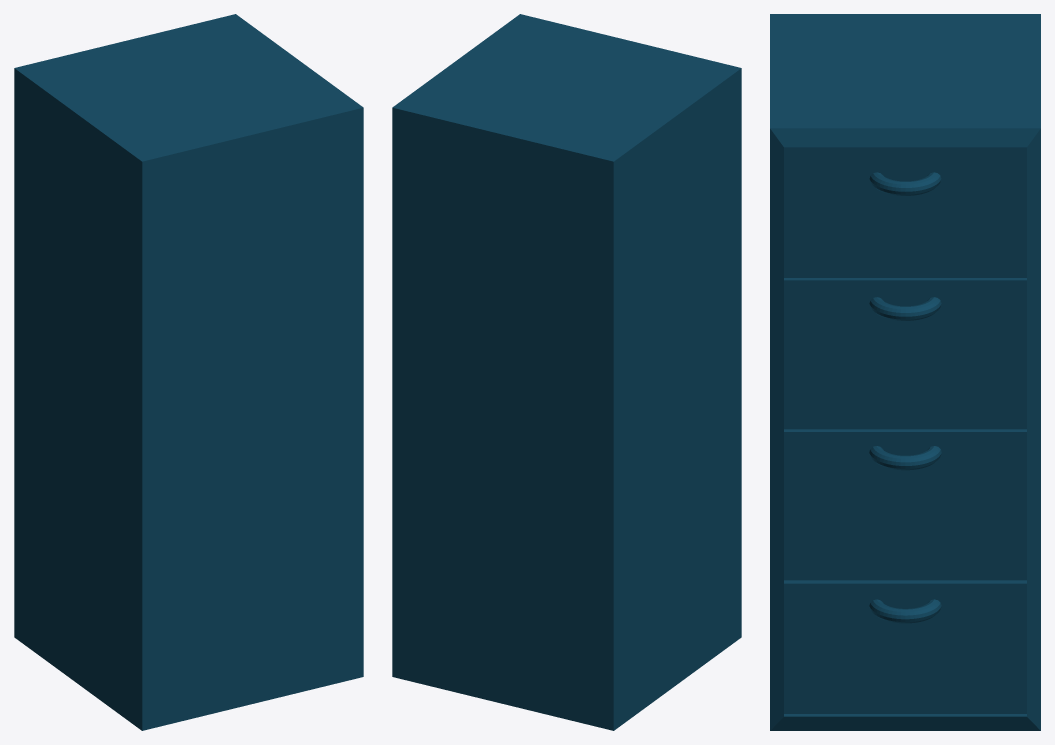
File: filingcabnet.fbx
3 views of the same model, side by side, from view 1: azimuth 30°, elevation 25°; view 2: azimuth 150°, elevation 25°; view 3: azimuth 270°, elevation 25° (orthographic). The views are drawn at different scales.
Parts seen in each view (by area): view 1: Cube; view 2: Cube; view 3: Cube.
Boxes of the visible parts, x1,y1,x2,y2 form: Cube: (14,14,363,730); Cube: (392,14,741,730); Cube: (770,14,1040,730).
Bounding box in the file's own units: 191 × 422 × 172.
